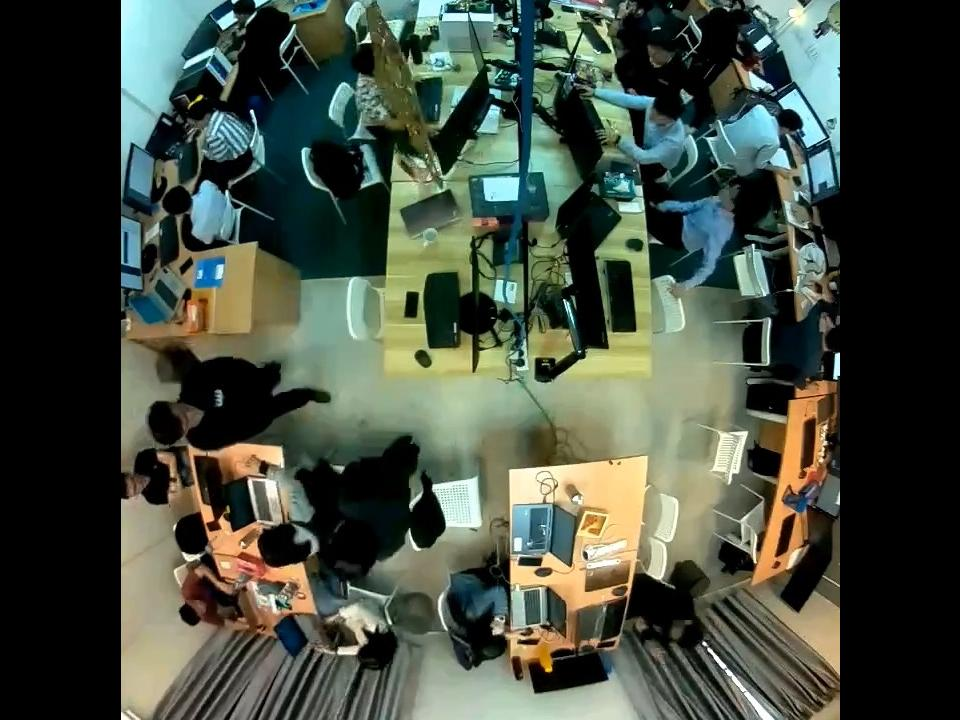name-tag: (208, 386, 224, 411)
